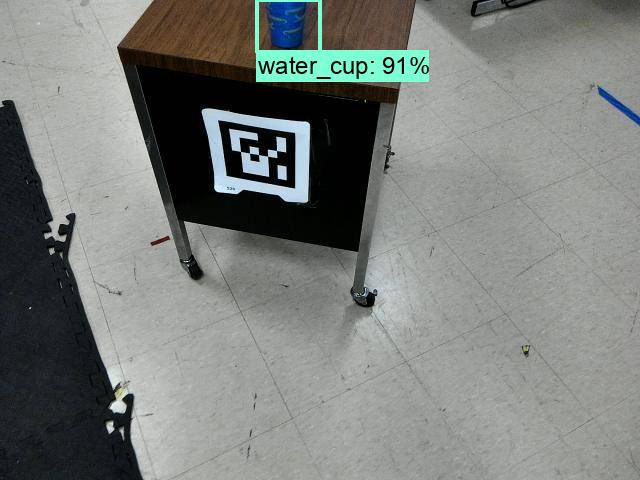water_cup: (256, 1, 315, 54)
